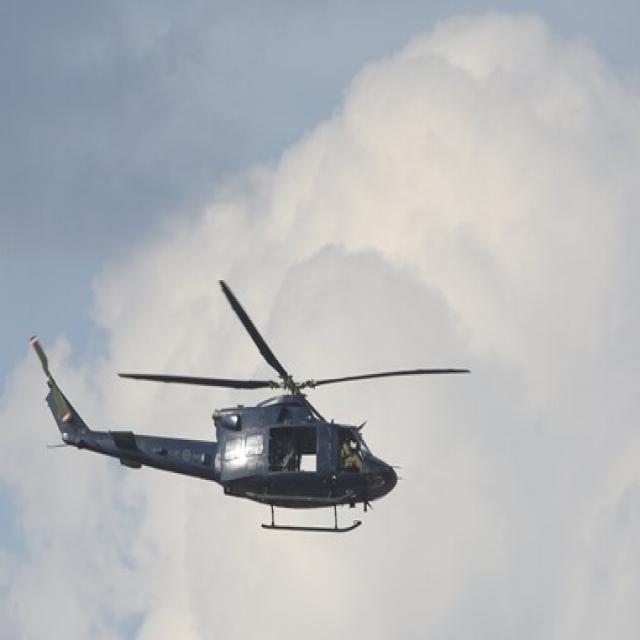helicopter: (23, 272, 477, 547)
